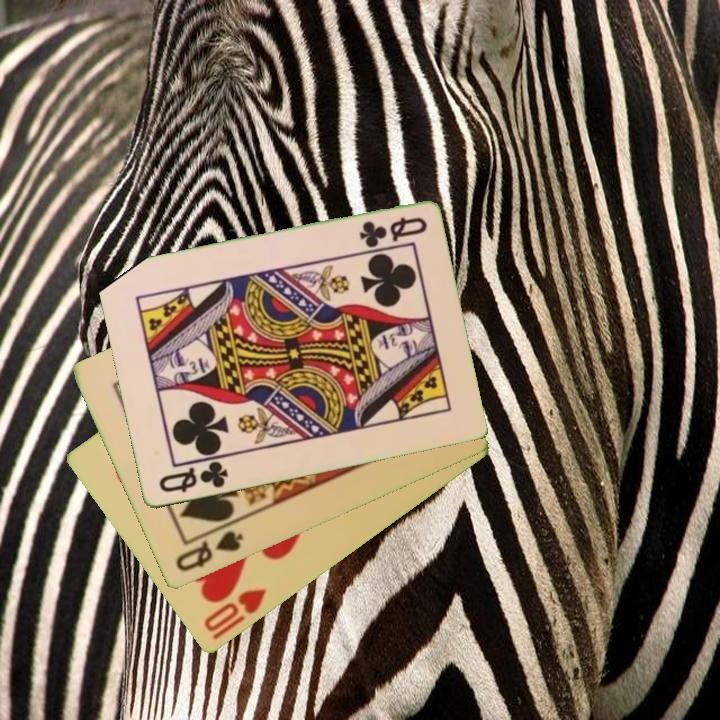10h: (200, 585, 270, 636)
Qc: (155, 458, 231, 496), (355, 213, 430, 250)
Qs: (171, 527, 247, 575)
